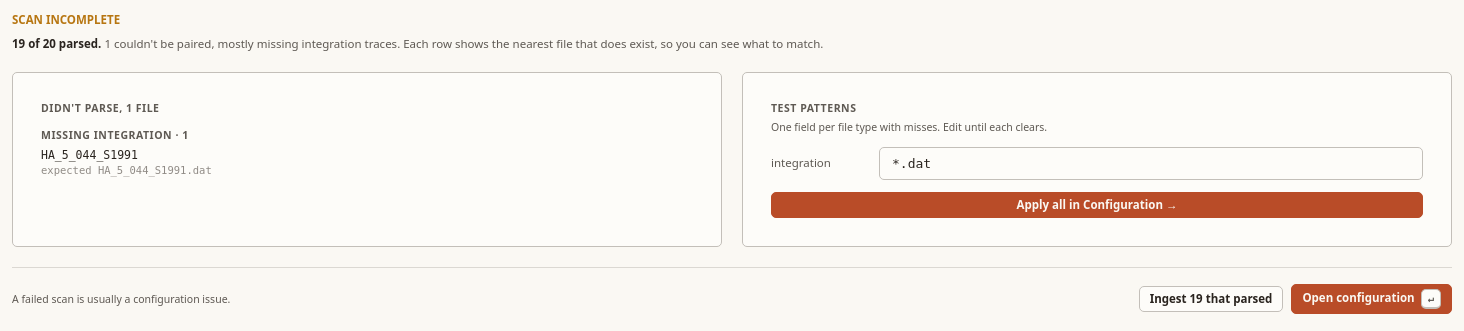
Test: ScanFailedPage › shows a live ✓ N / N readout when a trial pattern clears (dataDir present)
Replace the text in the field named "integration pattern" with "*_total.dat" at (1151, 163), box [892, 154, 1410, 173]
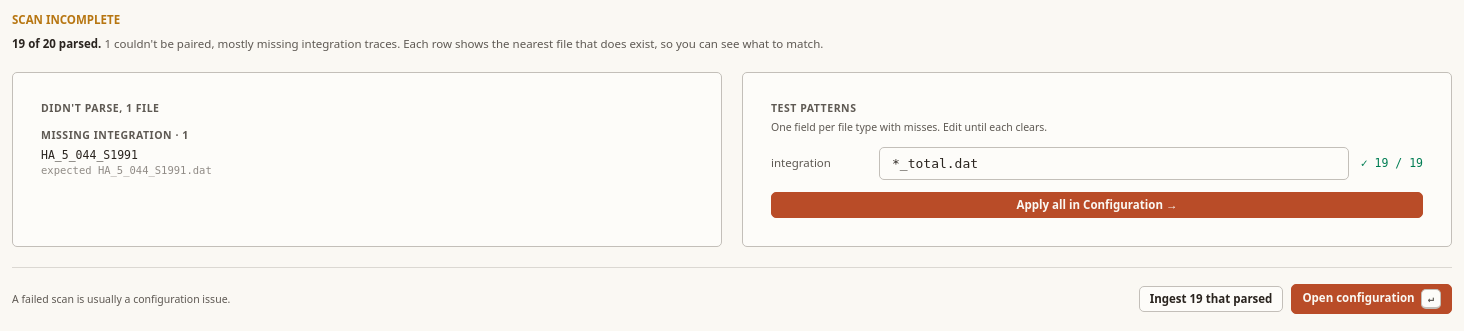
Expected: the text "✓ 19 / 19" is shown, [1361, 155, 1423, 171]
